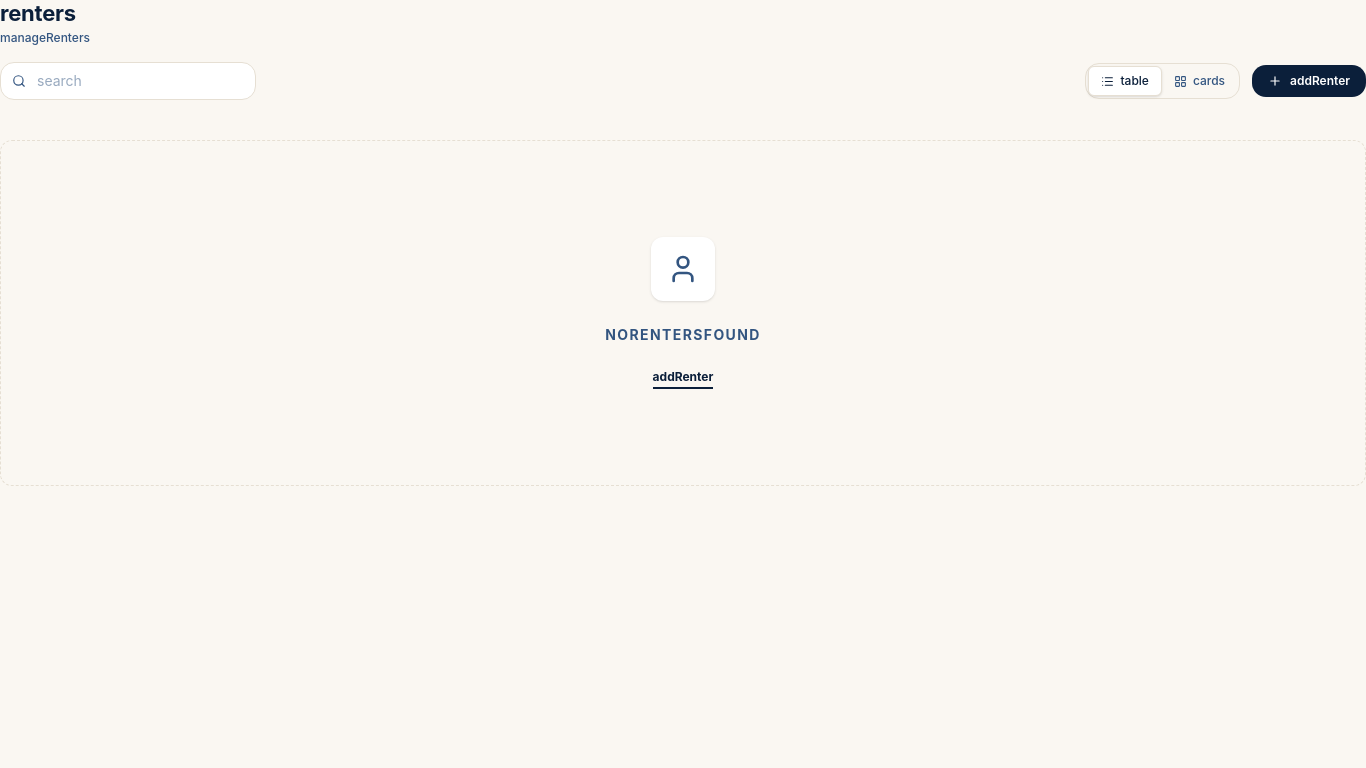
Test: Add Tenant duplicate warning › warns on a matching phone typed in Arabic digits
Step 1. Click the 1st button "addRenter" → click(1309, 81), box [1252, 65, 1365, 97]
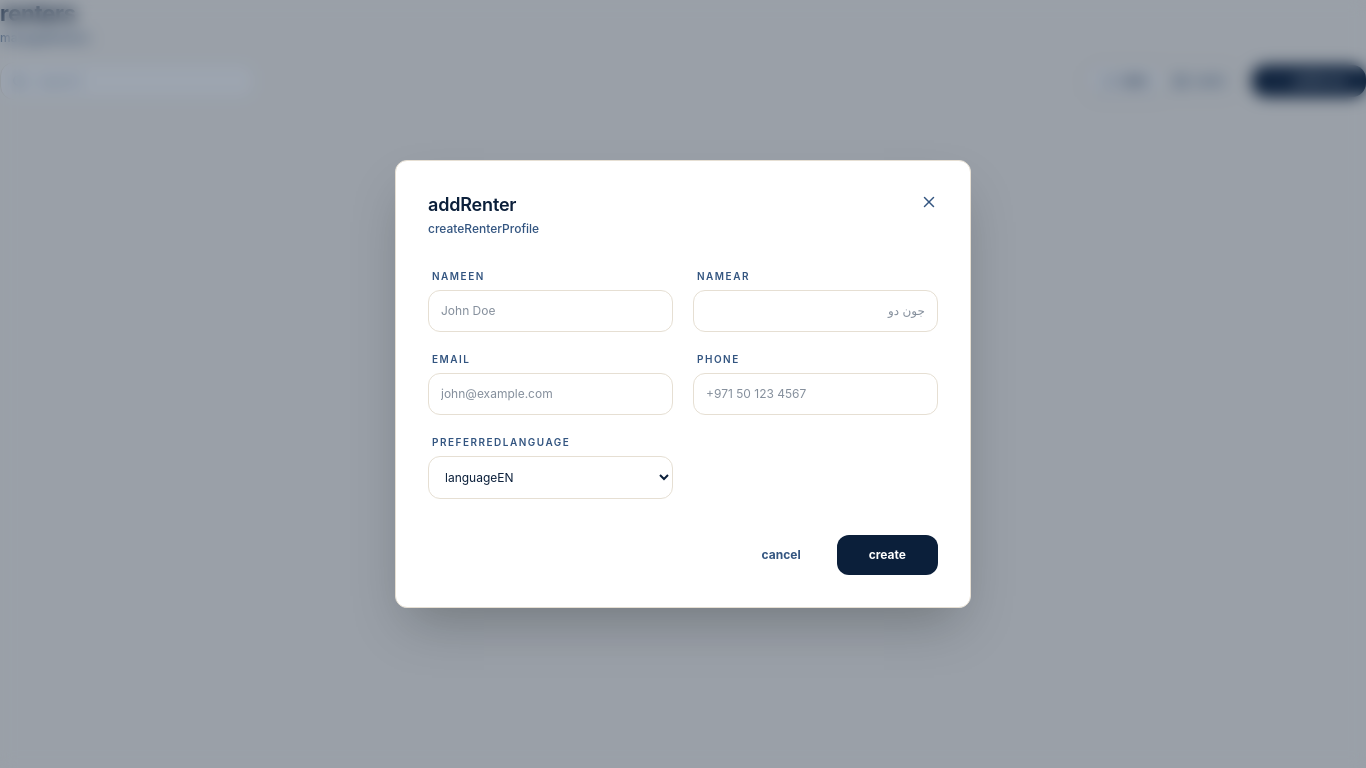
Step 2. Type "New Person" into the field with placeholder "John Doe" → (550, 311), box [428, 290, 673, 332]
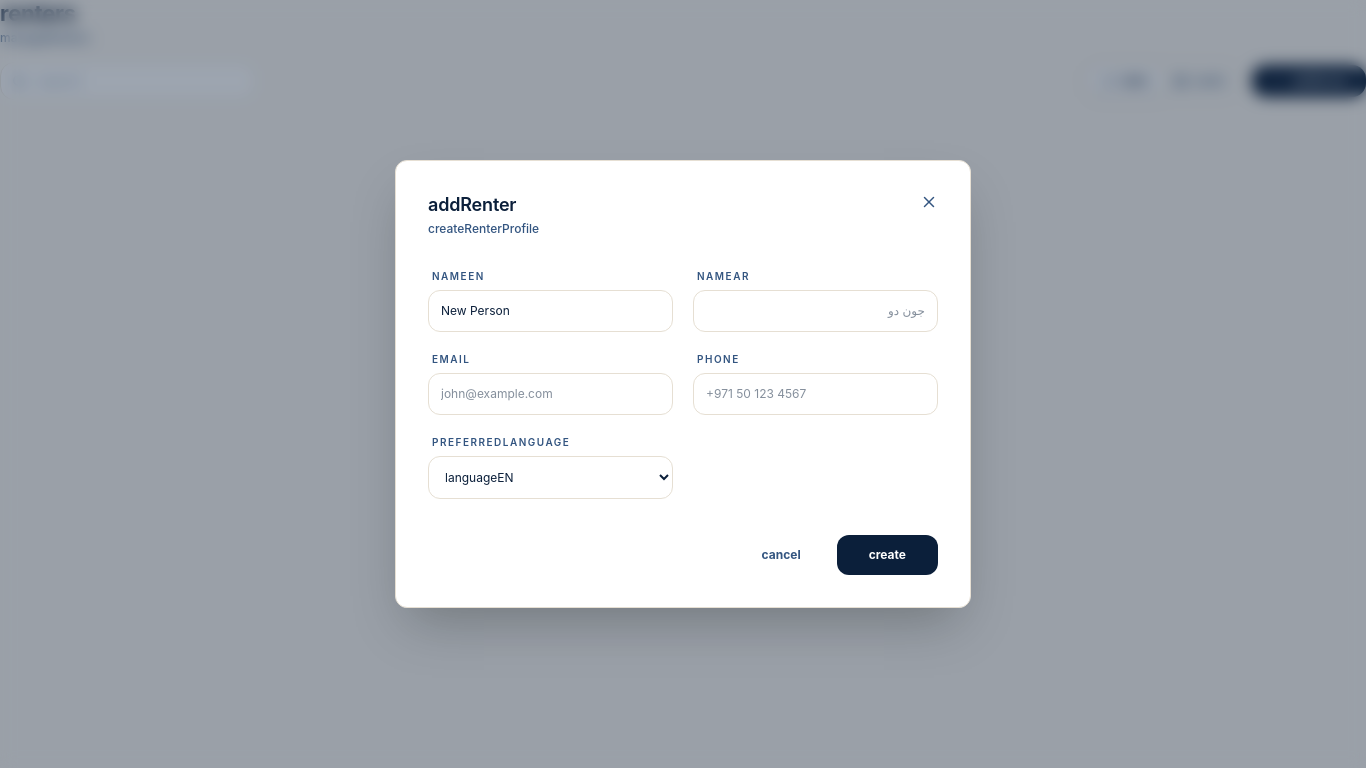
Step 3. Type "nobody-else@example.com" into the field with placeholder "john@example.com" → (550, 394), box [428, 373, 673, 415]
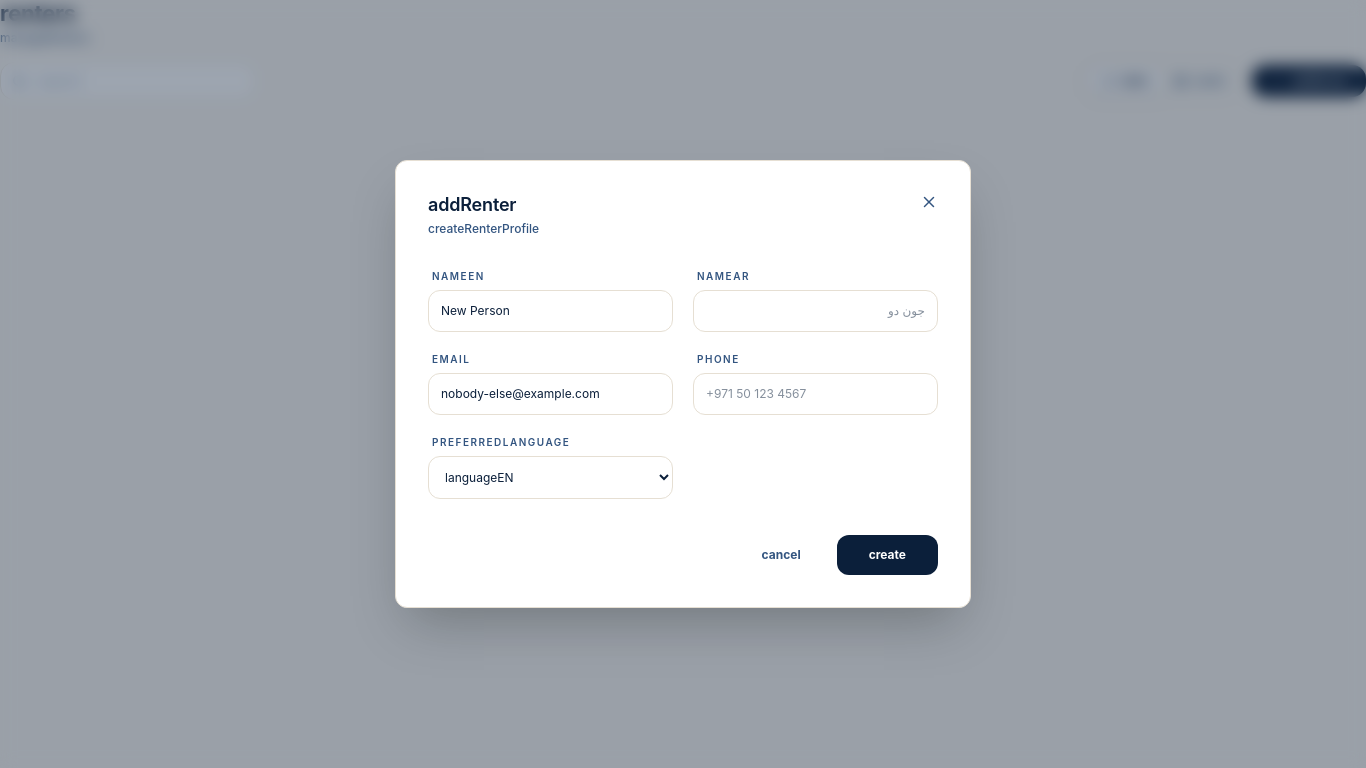
Step 4. Type "٠٥٠ ١٢٣ ٤٥٦٧" into the field with placeholder "+971 50 123 4567" → (816, 394), box [693, 373, 938, 415]
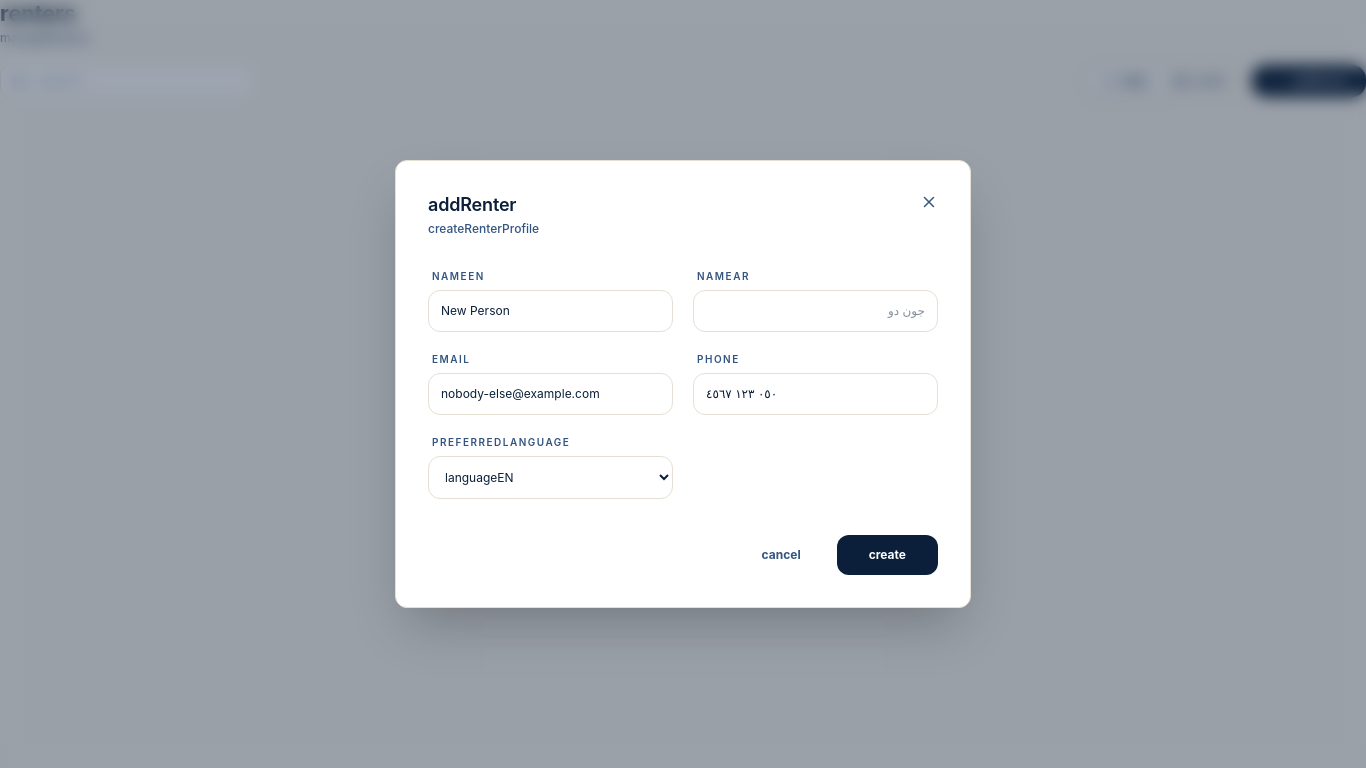
Step 5. Click the button "create" → click(887, 555), box [837, 535, 938, 575]
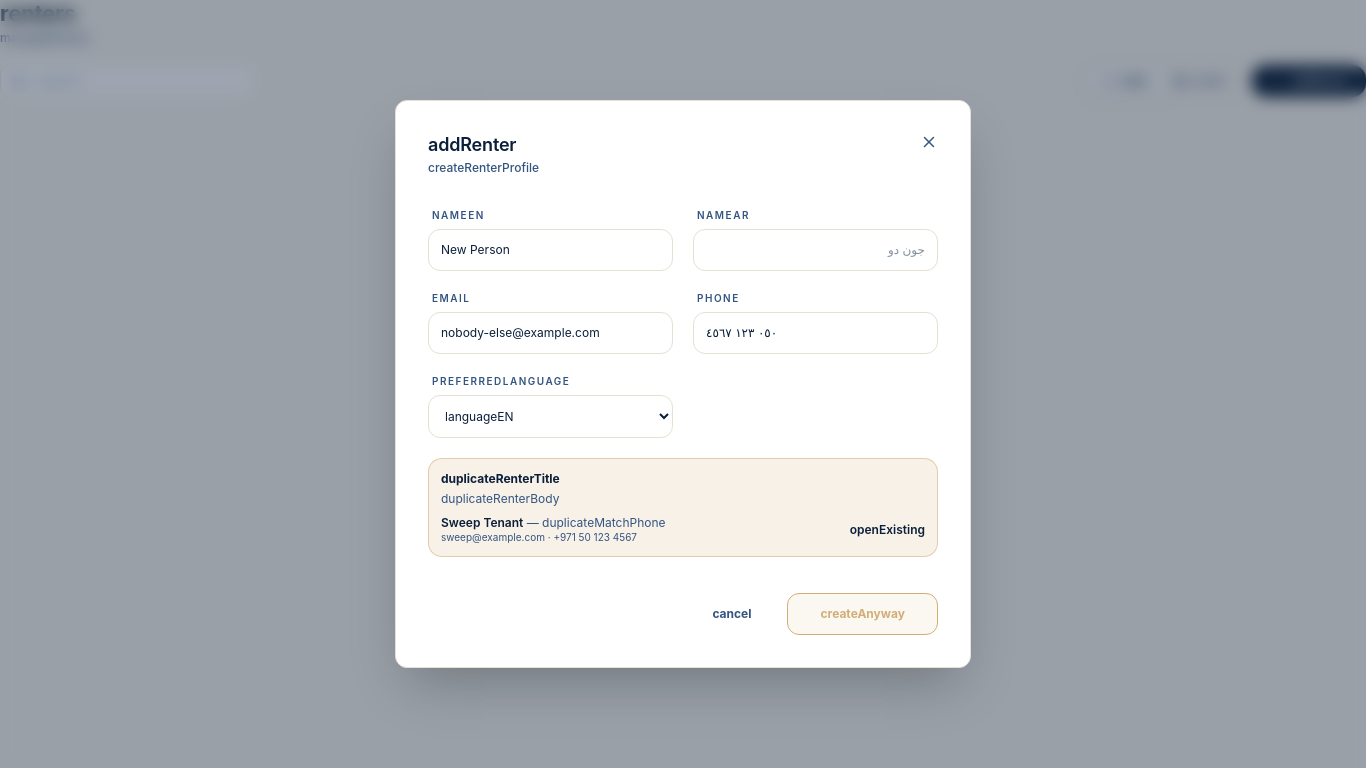
Check: the message with test id "renter-duplicate-warning" shows "Sweep Tenant", box [441, 515, 523, 530]
